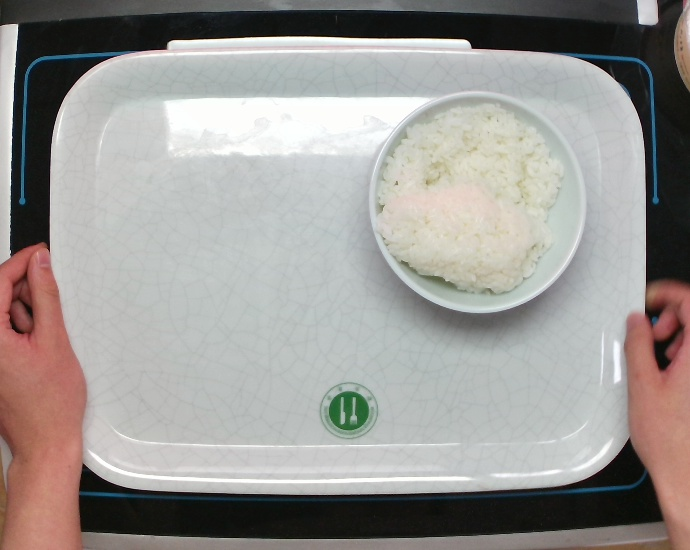JYsf-Fan_Wan: (365, 88, 589, 316)
